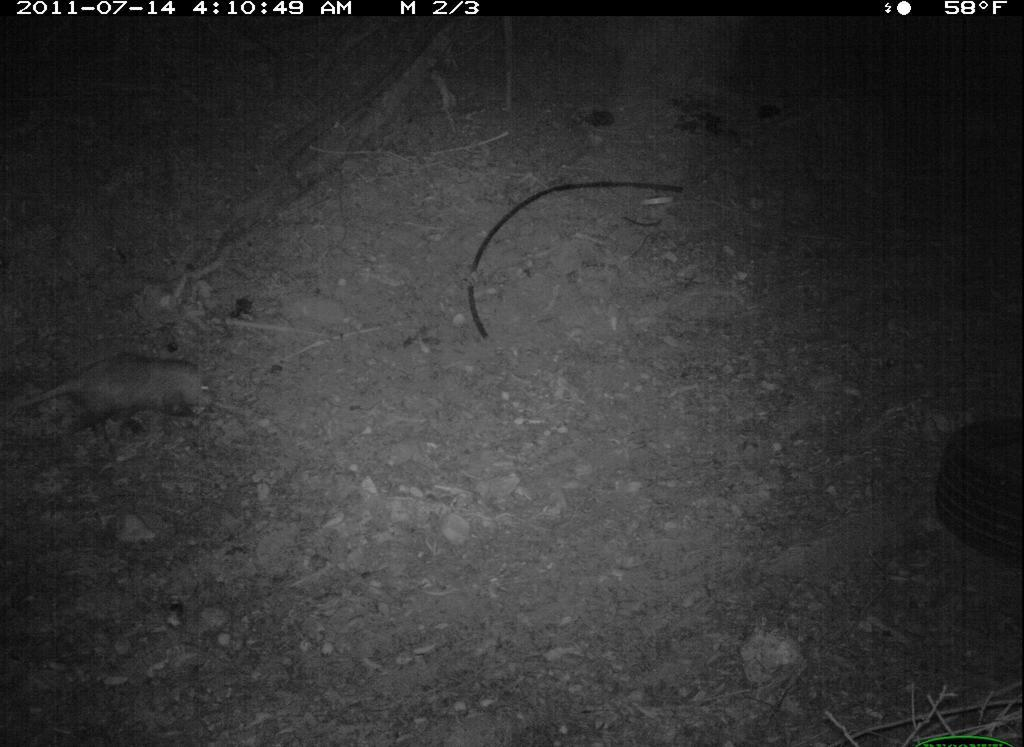opossum: (16, 340, 221, 470)
